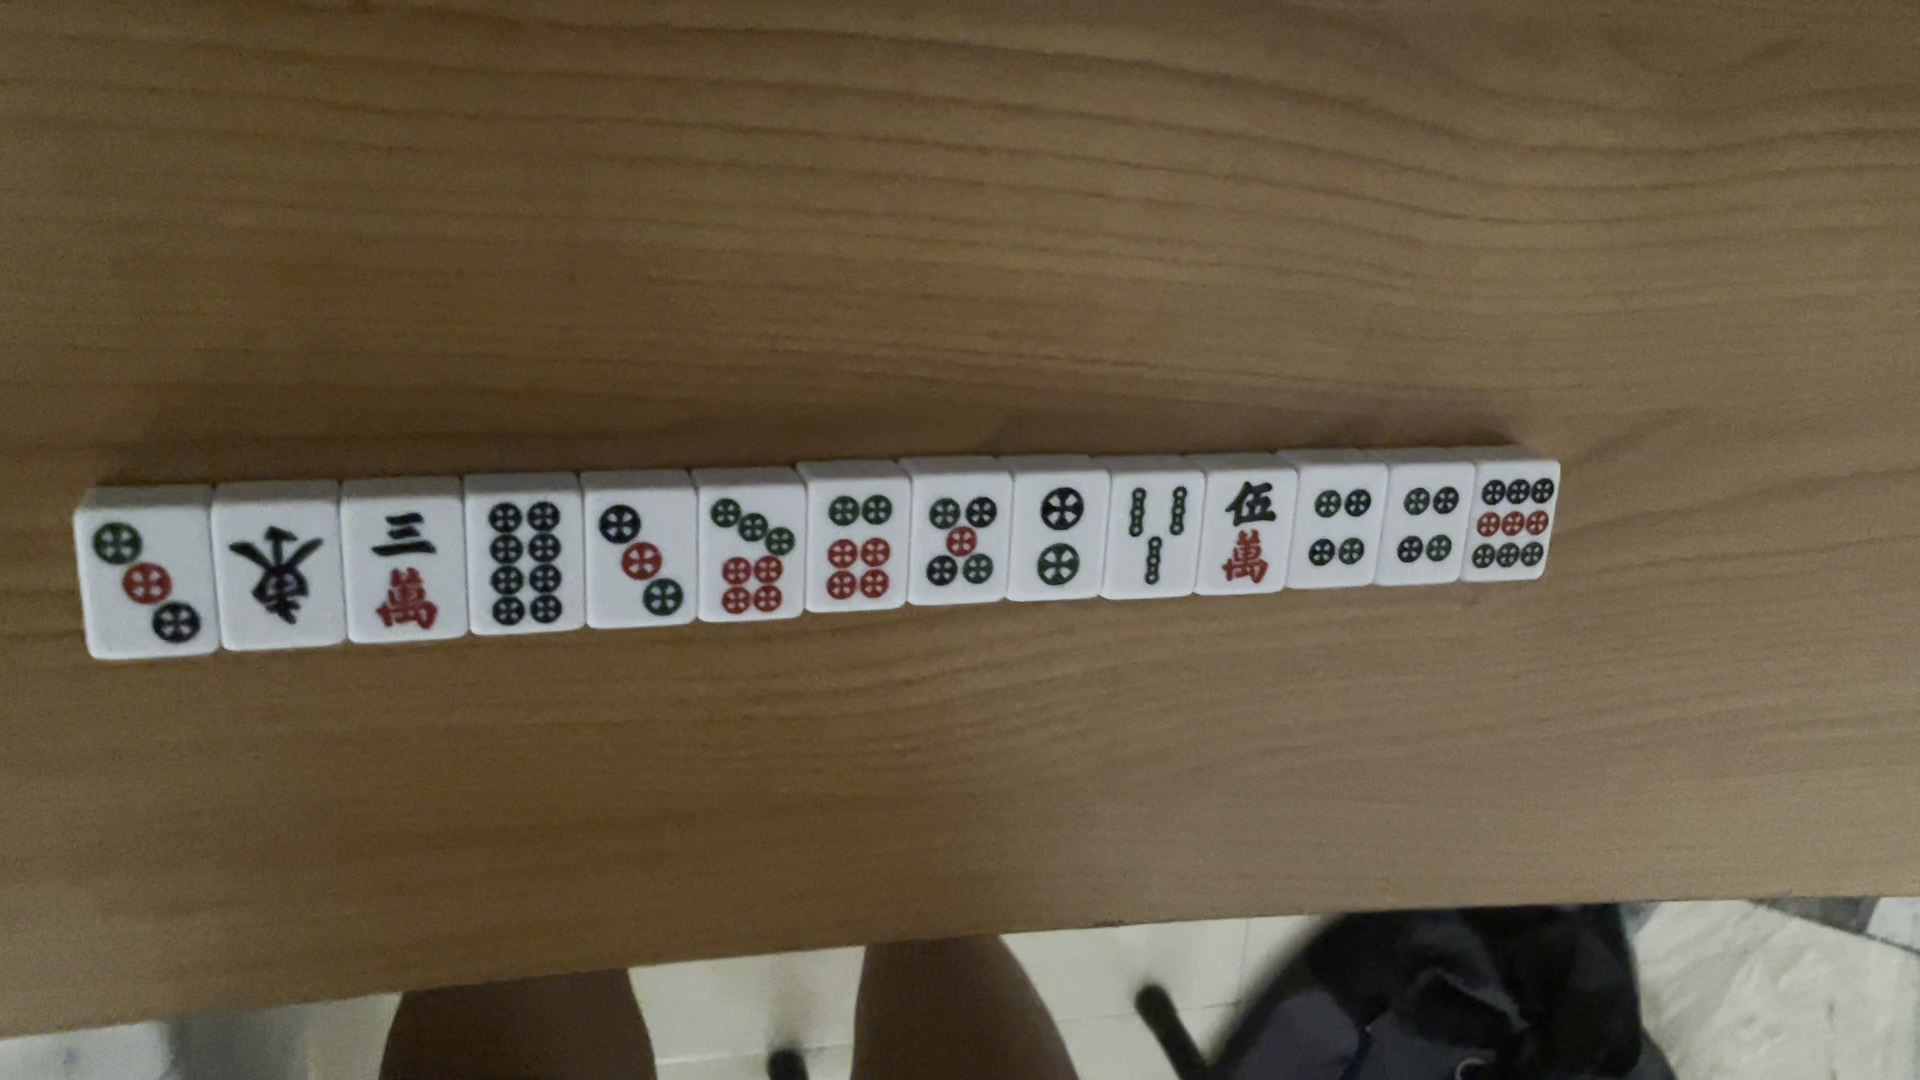b-3: (1118, 479, 1191, 592)
c-3: (360, 509, 449, 635)
c-5: (1210, 476, 1281, 589)
d-2: (1022, 482, 1090, 589)
d-3: (86, 517, 204, 648), (594, 502, 687, 621)
d-4: (1299, 480, 1377, 572), (1389, 479, 1460, 566)
d-5: (919, 488, 1000, 592)
d-6: (816, 489, 899, 608)
d-7: (706, 493, 799, 621)
d-8: (480, 498, 571, 631)
d-9: (1470, 475, 1555, 575)
honors-east: (225, 518, 326, 627)
